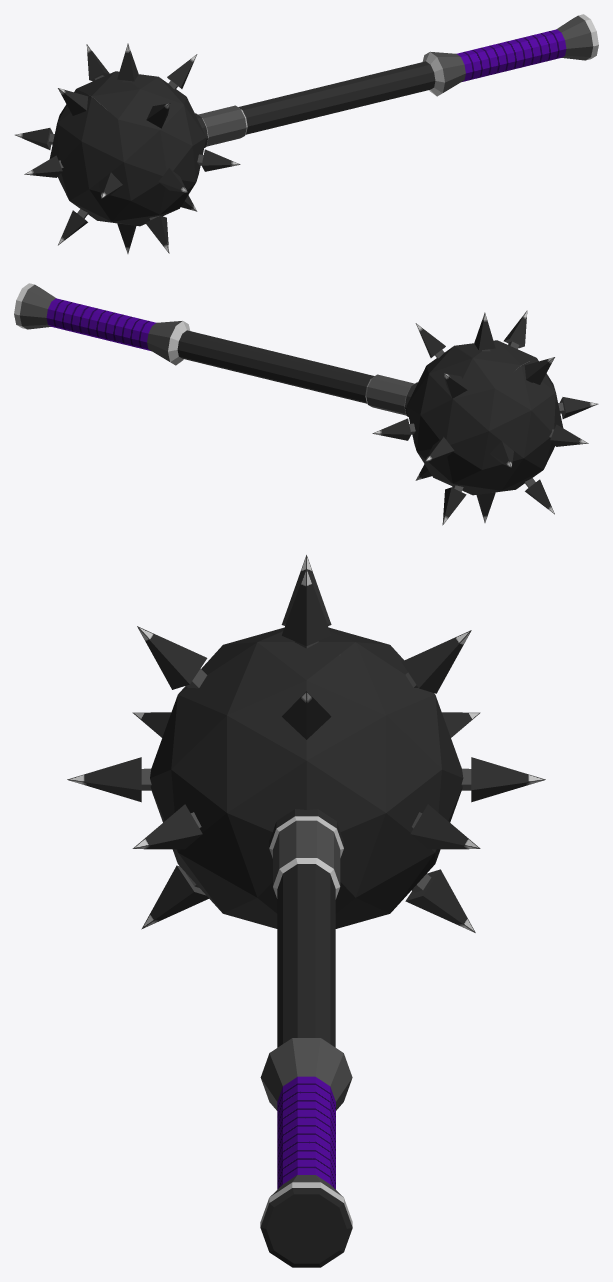
The model's file is MorningStar.fbx.
3 renders of one model, top to bottom at view 1: azimuth 30°, elevation 25°; view 2: azimuth 150°, elevation 25°; view 3: azimuth 270°, elevation 25°, orthographic. The views are drawn at different scales.
Parts seen in each view (by area): view 1: ZomboidMorningStar; view 2: ZomboidMorningStar; view 3: ZomboidMorningStar.
Part boxes in pixels (<box>): ZomboidMorningStar: <box>15,14,598,253</box>; ZomboidMorningStar: <box>14,283,598,525</box>; ZomboidMorningStar: <box>67,555,545,1267</box>.
Bounding box in the file's own units: 0.4458 × 0.1599 × 0.1641.
